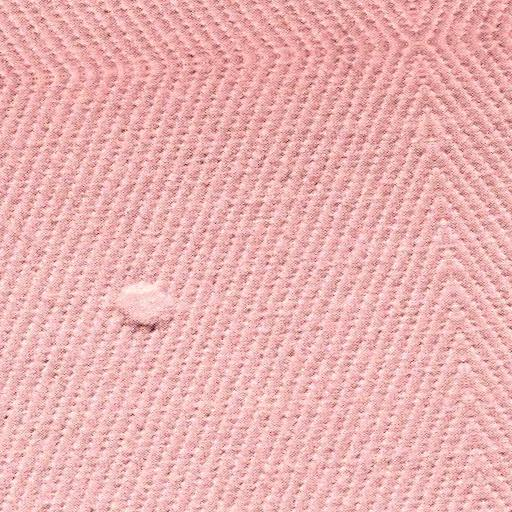knot: (112, 277, 191, 332)
